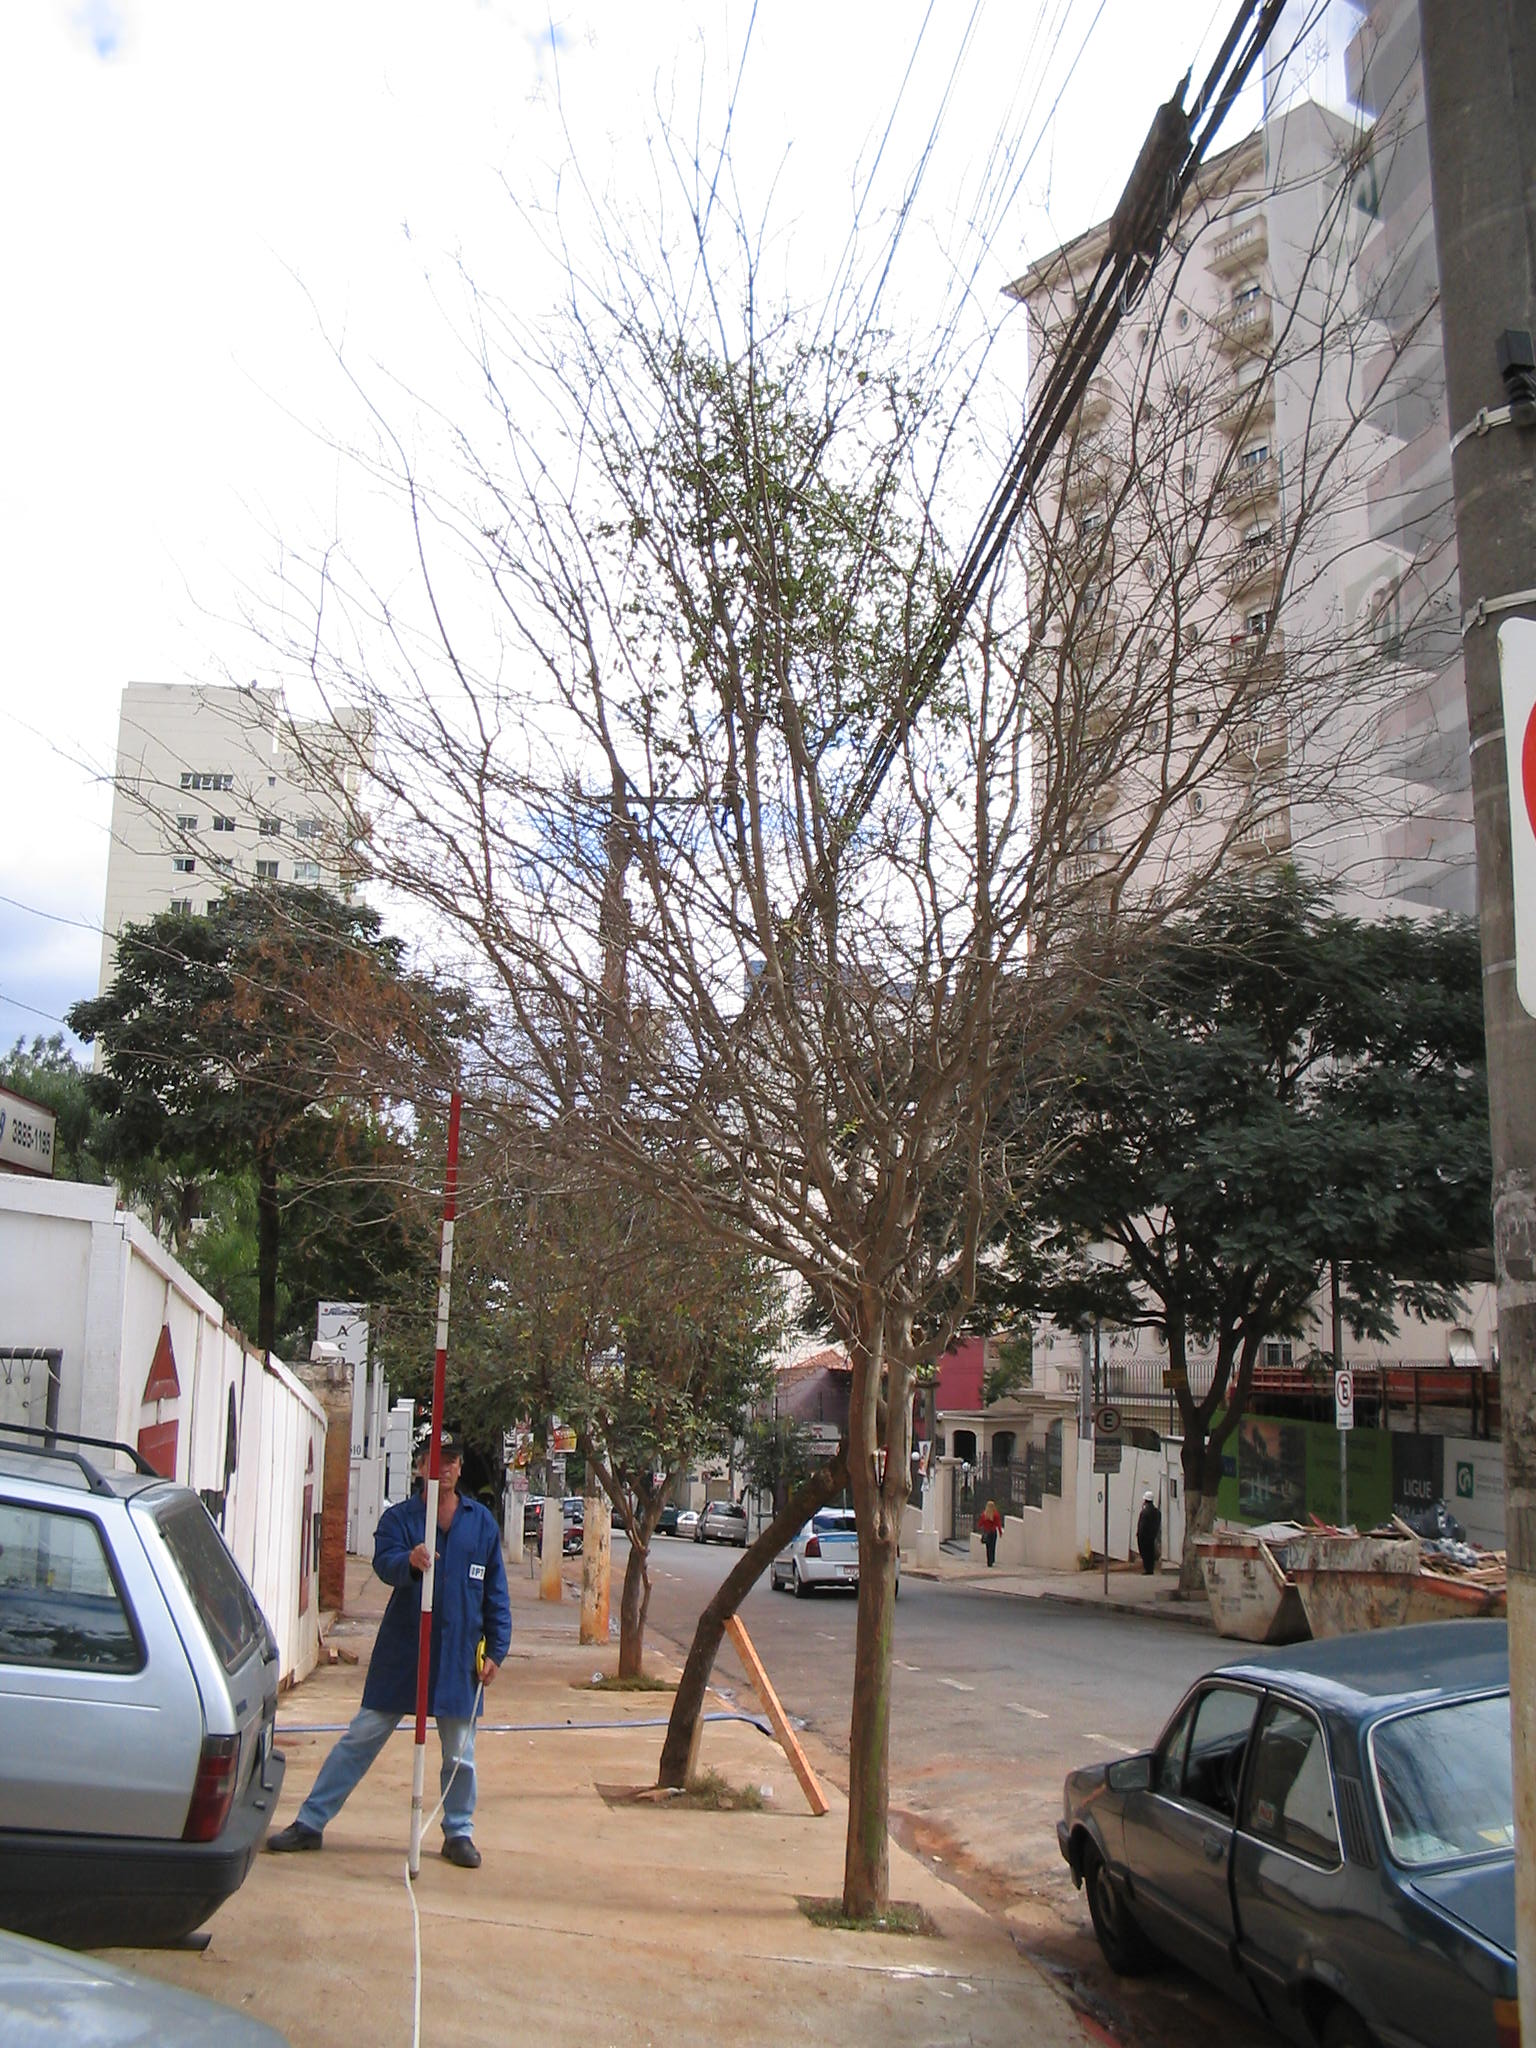crown: (999, 871, 1475, 1382)
stem: (810, 1526, 936, 1917), (1157, 1450, 1241, 1600)
stick: (387, 1087, 490, 1882)
tree: (136, 45, 1473, 1924), (999, 861, 1483, 1603)
